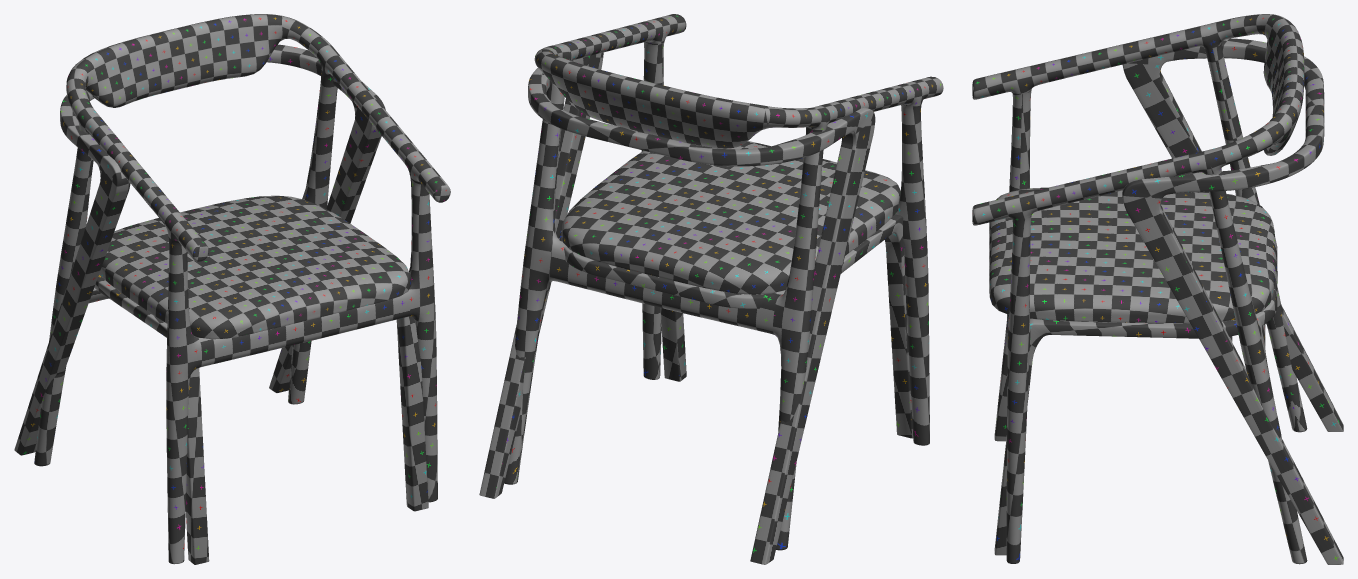
Rendered from chair3.glb.
3 renders of one model, left to right at view 1: azimuth 30°, elevation 25°; view 2: azimuth 150°, elevation 25°; view 3: azimuth 270°, elevation 25°, orthographic. The views are drawn at different scales.
Parts seen in each view (by area): view 1: frame_1.001, cushion.001, frame_2.001; view 2: frame_1.001, frame_2.001, cushion.001; view 3: frame_1.001, frame_2.001, cushion.001.
Boxes of the visible parts, x1,y1,x2,y2 form: frame_1.001: (34, 14, 450, 564); cushion.001: (99, 195, 411, 339); frame_2.001: (14, 44, 428, 564); frame_1.001: (504, 14, 943, 550); frame_2.001: (479, 52, 913, 564); cushion.001: (562, 141, 900, 294); frame_1.001: (972, 14, 1307, 564); frame_2.001: (994, 38, 1343, 564); cushion.001: (989, 187, 1275, 323).
Bounding box in the file's own units: 0.5414 × 0.7706 × 0.6023.
1 material, 1 textured.
